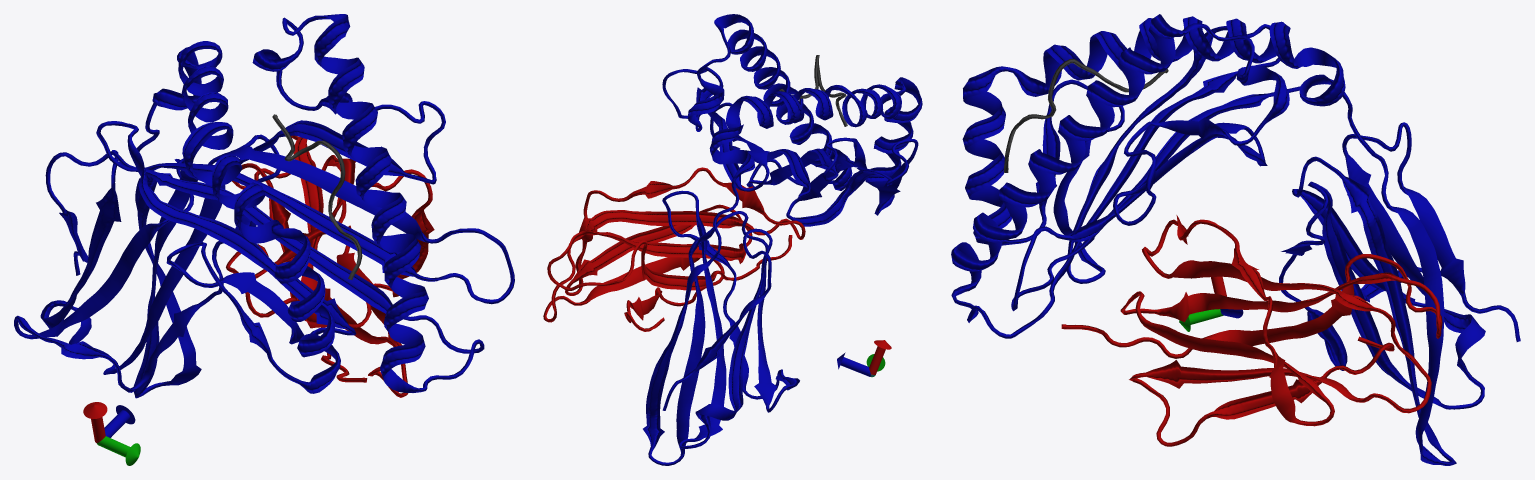
Rendered from 3utq.obj.
3 views of the same model, side by side, from view 1: azimuth 30°, elevation 25°; view 2: azimuth 150°, elevation 25°; view 3: azimuth 270°, elevation 25° (orthographic). The views are drawn at different scales.
Parts seen in each view (by area): view 1: vmd_mol4_rep0, vmd_axes; view 2: vmd_mol4_rep0, vmd_axes; view 3: vmd_mol4_rep0, vmd_axes.
Boxes of the visible parts, x1,y1,x2,y2 form: vmd_mol4_rep0: (14,14,514,398); vmd_axes: (83,402,140,465); vmd_mol4_rep0: (543,14,922,465); vmd_axes: (837,340,891,377); vmd_mol4_rep0: (951,14,1520,465); vmd_axes: (1179,276,1243,331).
Bounding box in the file's own units: 2.23 × 2.64 × 2.9.
